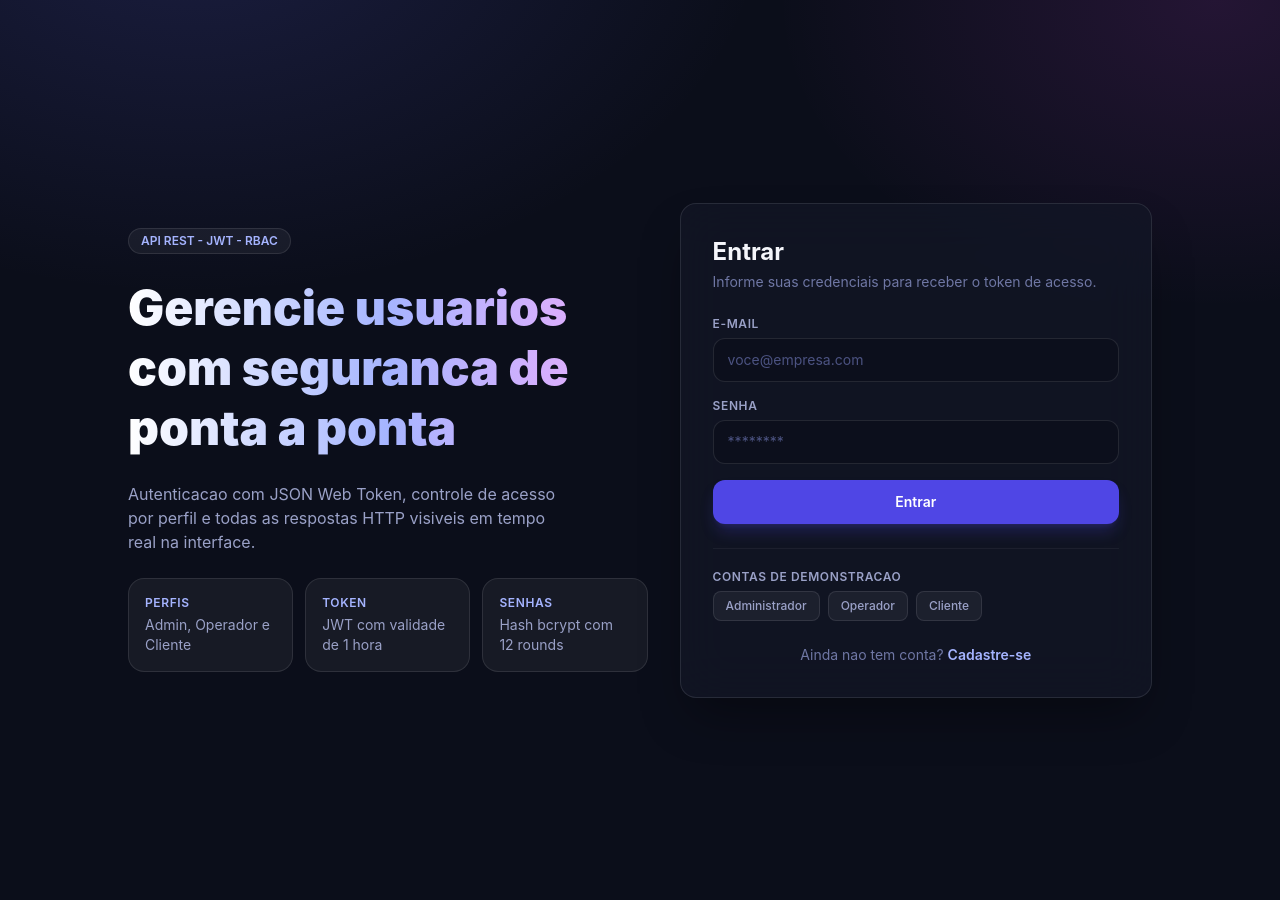
it: <Login /> › preenche as credenciais ao escolher uma conta de demonstracao
The image size is (1280, 900).
What coordinates should you click on to do the following:
click the button "Operador"
I would click on:
 (868, 606)
Its box is [828,590,908,620].
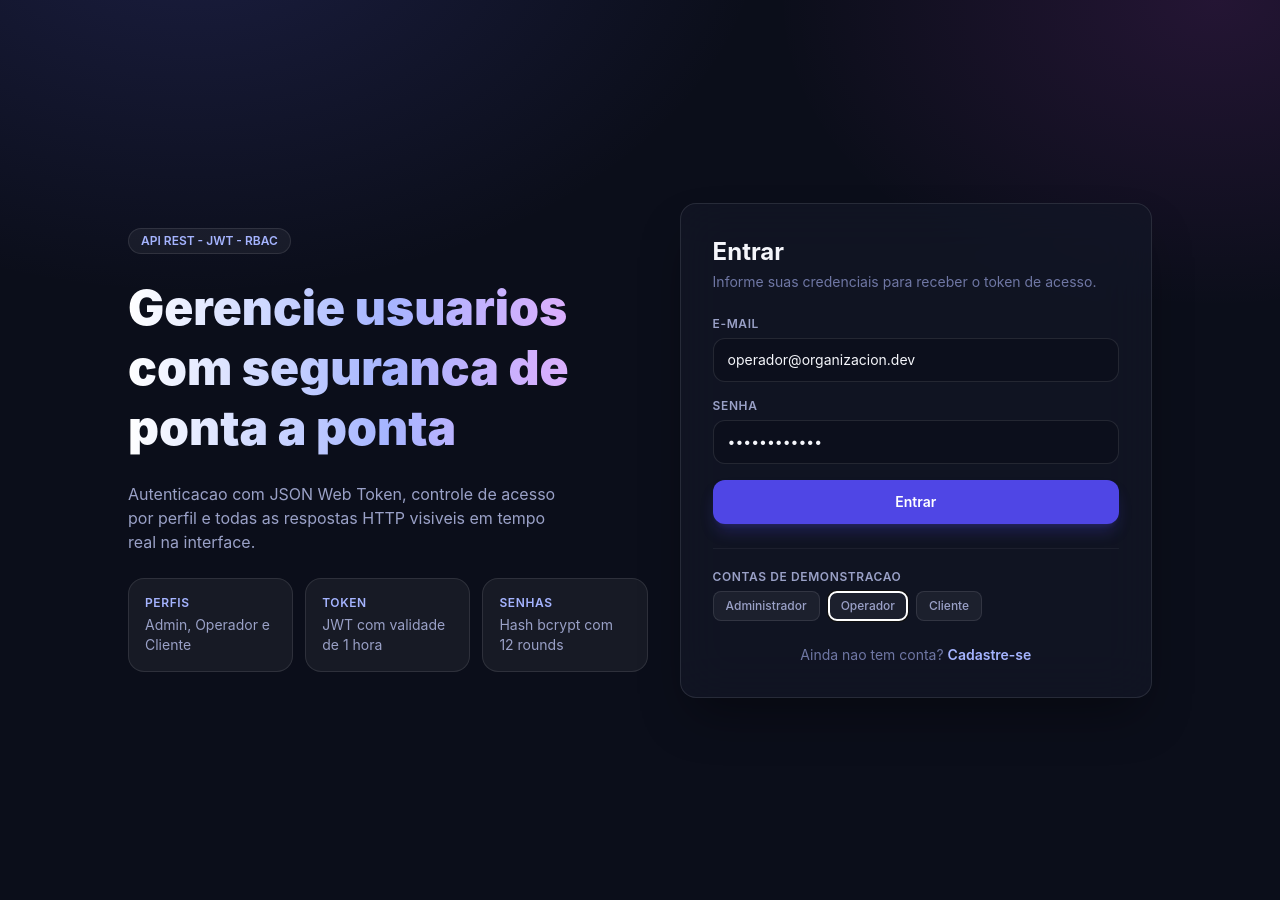
Expected: the field labelled "E-mail" holds "operador@organizacion.dev", [713,338,1119,382]
Expected: the password field labelled "Senha" holds "Operador@123", [713,420,1119,464]
